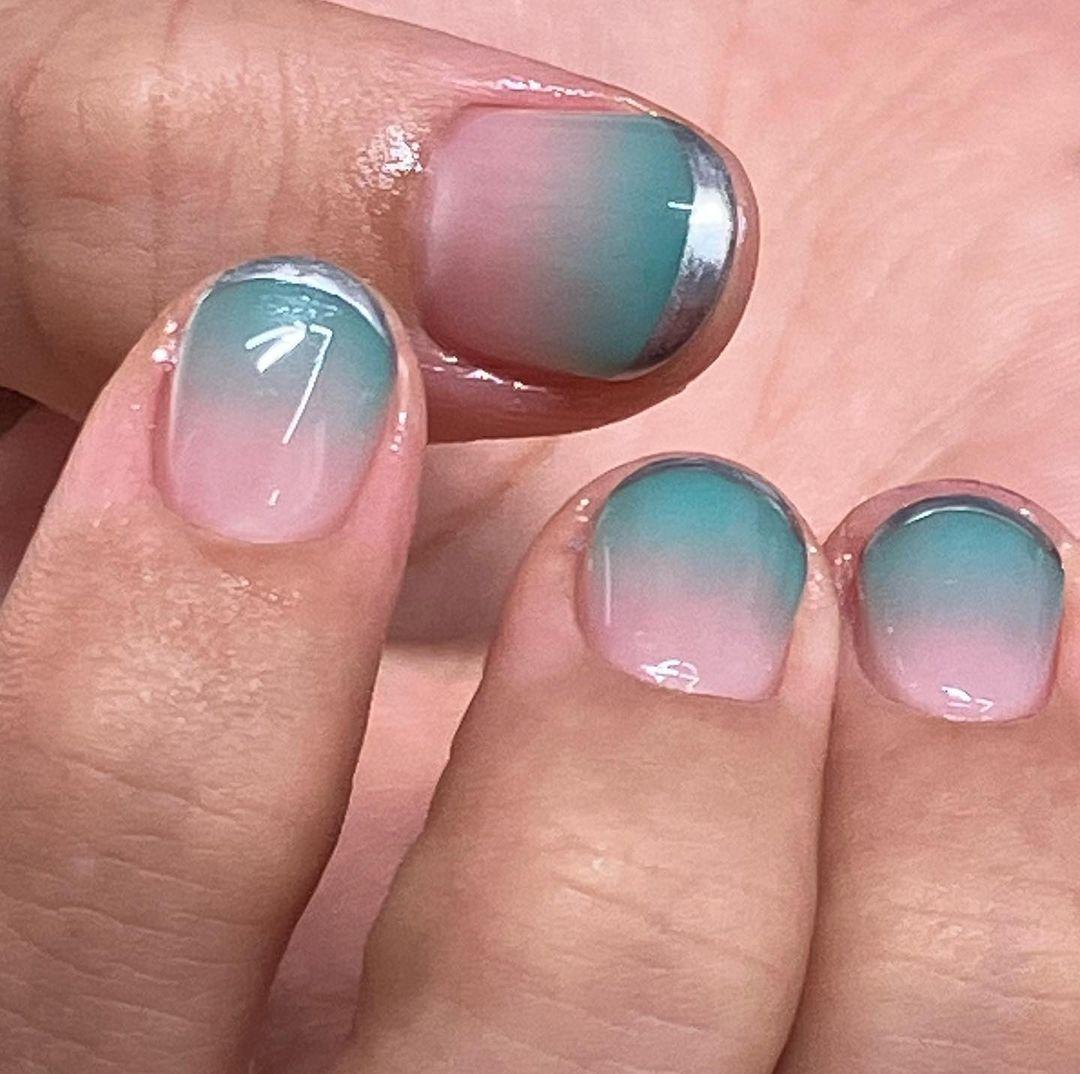nail: (150, 254, 400, 546)
